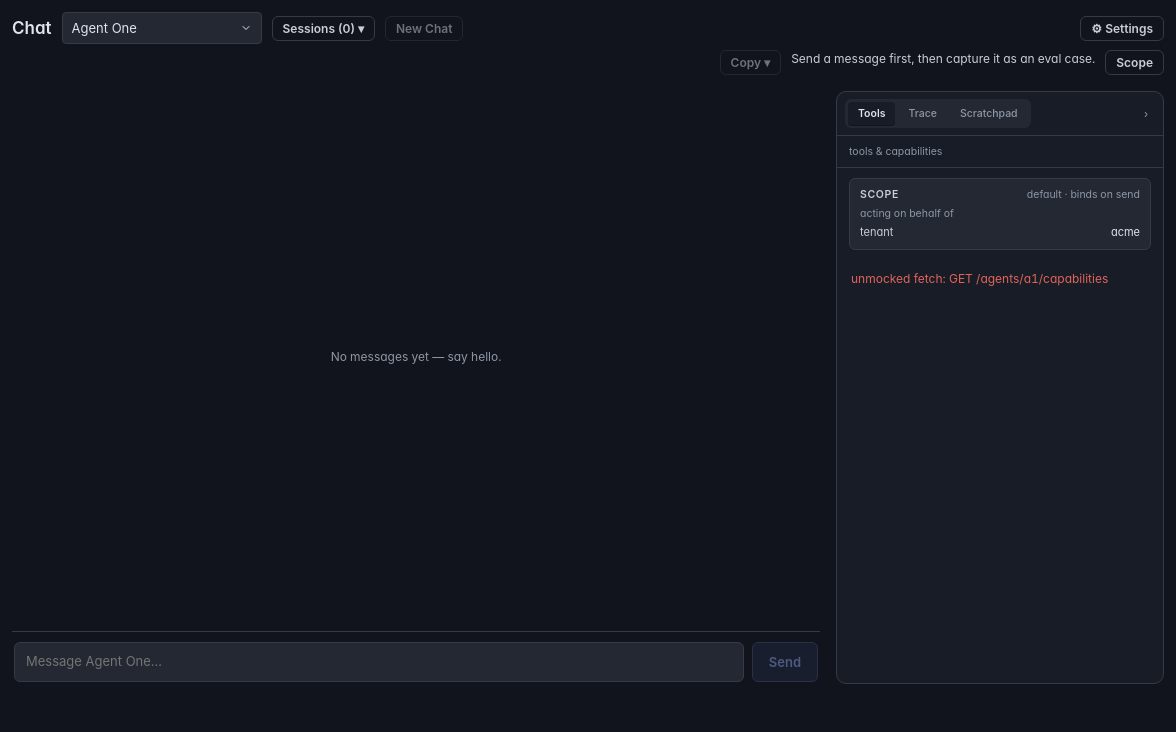
ChatPage scope chip (#268) › renders the chip from the create response's echoed context after the first send — not the editor draft
The width and height of the screenshot is (1176, 732).
In the text box with placeholder "Message Agent One…": x=379, y=662 [14, 642, 744, 682], type "hello"
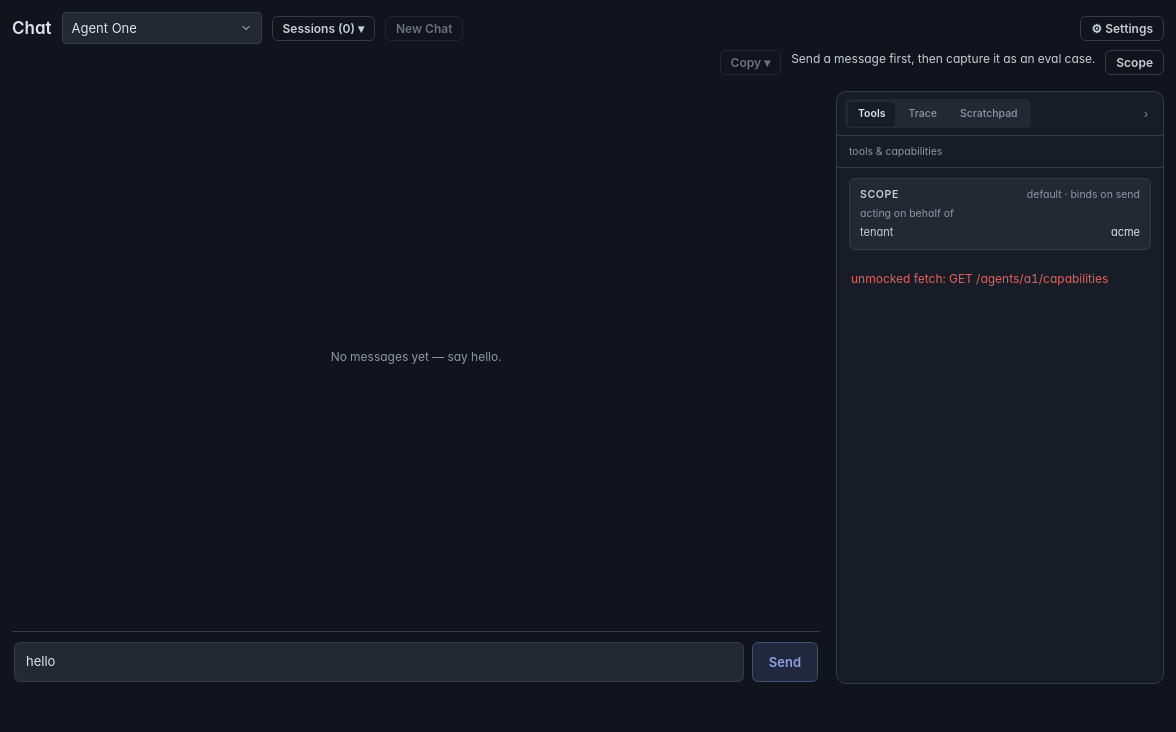
Click the button "Send": x=785, y=662 [752, 642, 818, 682]
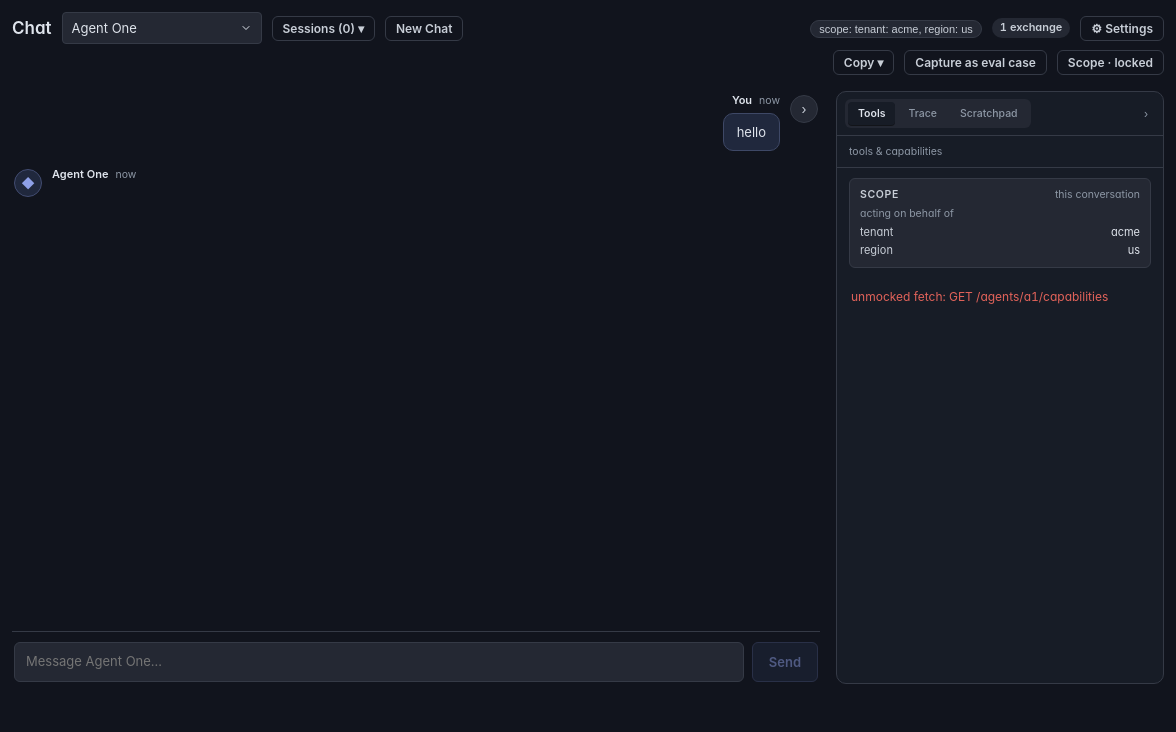
Expected: the button "scope: tenant: acme, region: us" is shown
Note: Full JSON on click (the popover) — carries BOTH echoed keys.
Click the button "scope: tenant: acme, region: us": x=896, y=28 [810, 20, 982, 38]
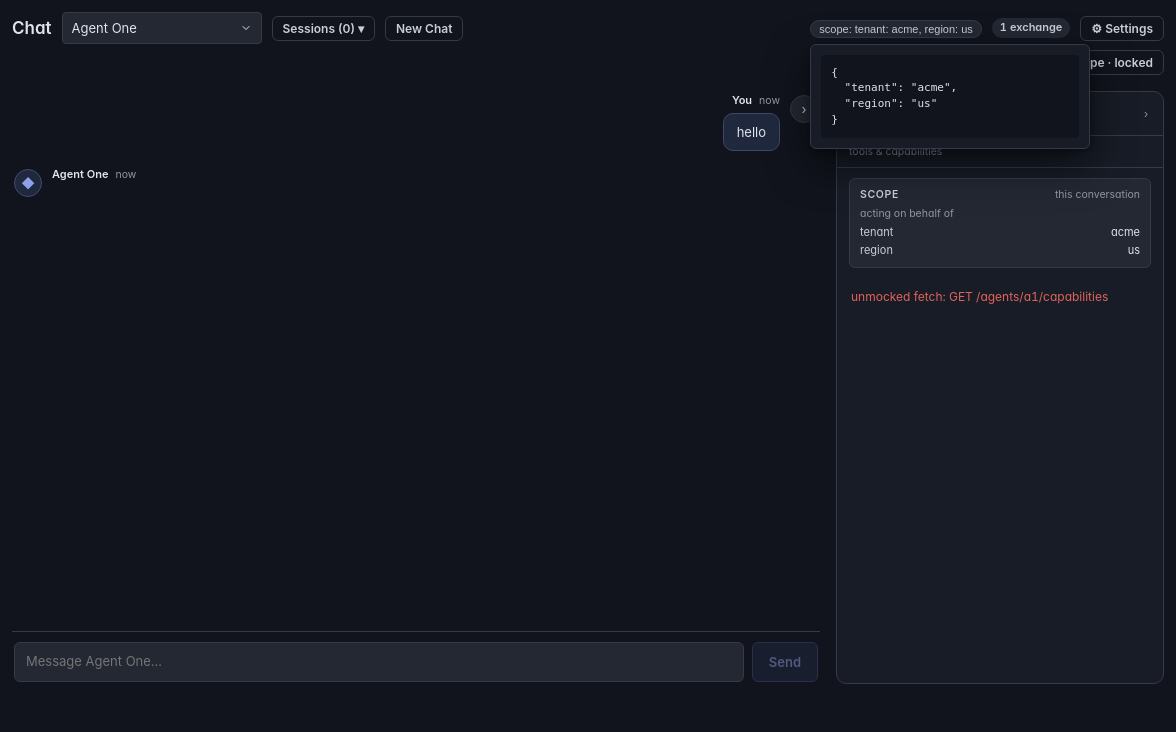
Expected: the text "{ \"tenant\": \"acme\", \"region\": \"us\" }" shows "\"tenant\": \"acme\"", [831, 66, 957, 126]
Expected: the text "{ \"tenant\": \"acme\", \"region\": \"us\" }" shows "\"region\": \"us\"", [831, 66, 957, 126]
